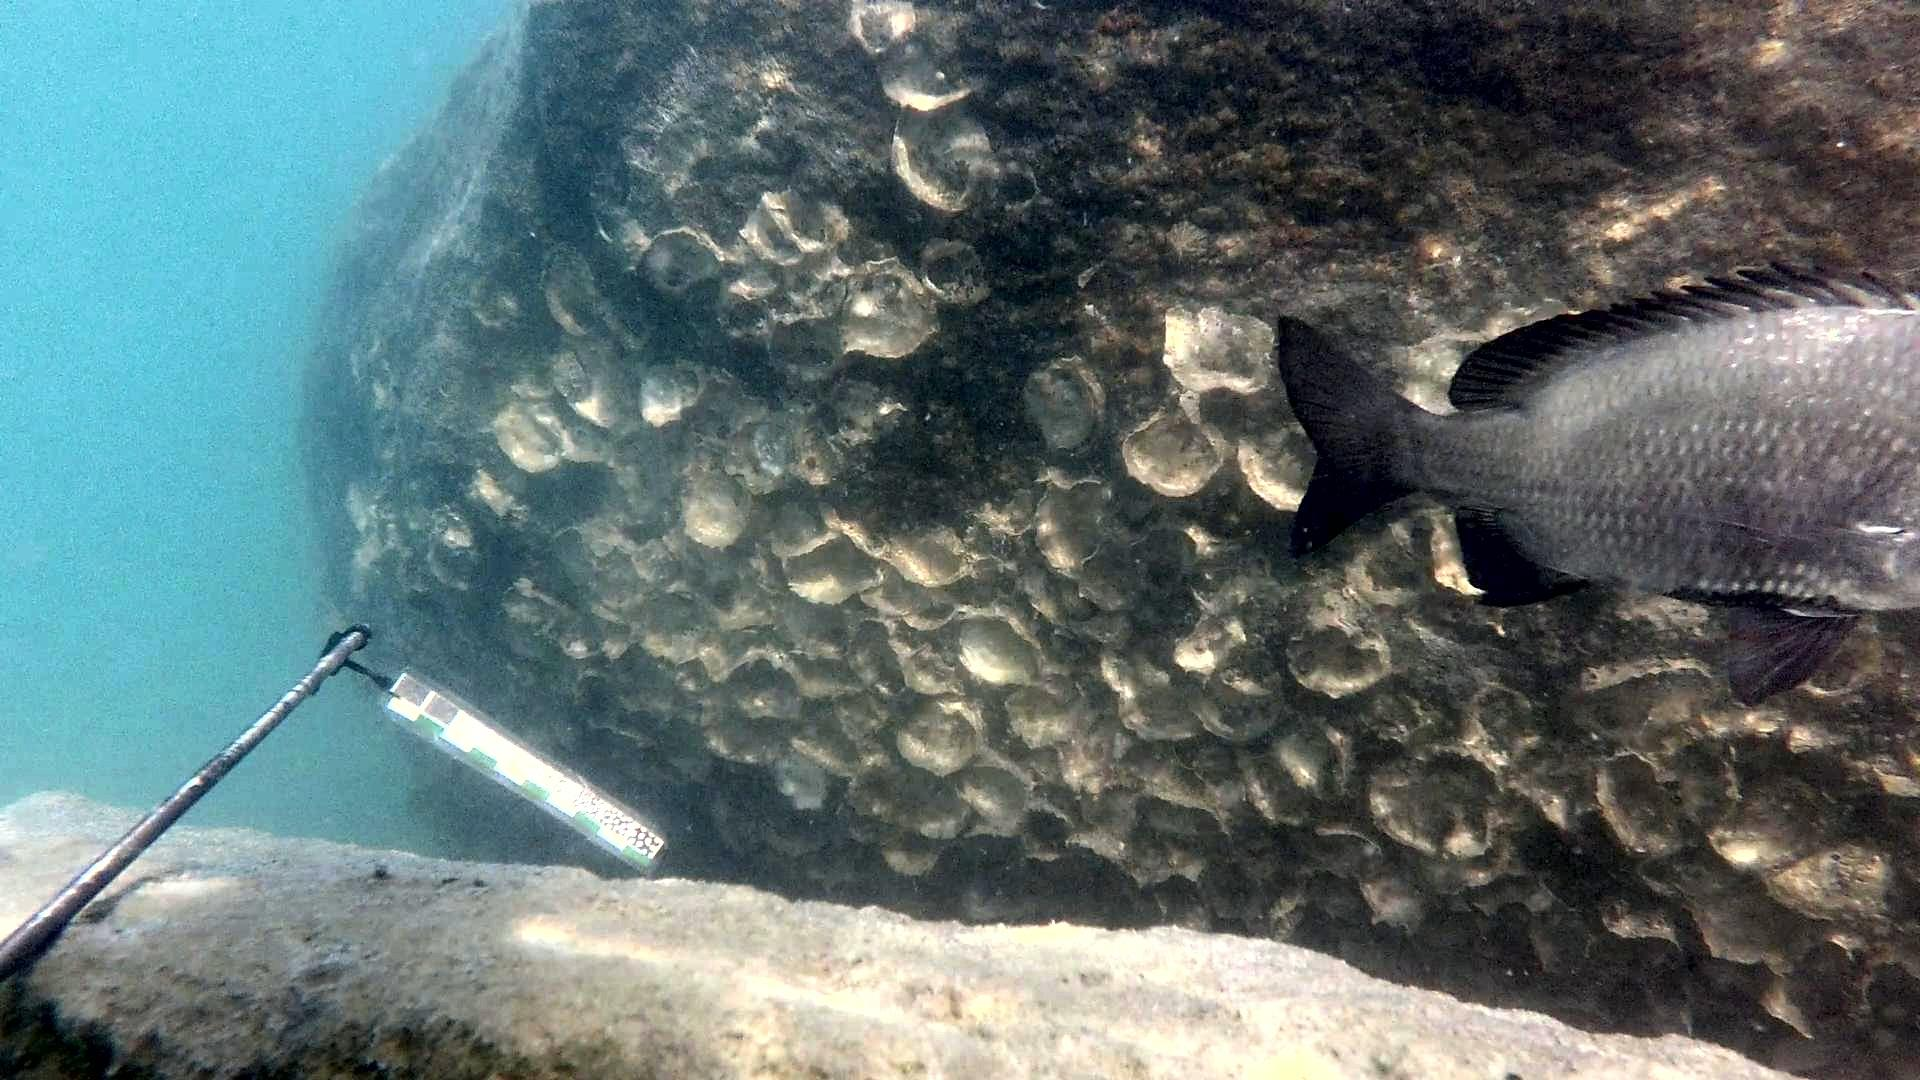acanthopagrus palmaris: (1270, 243, 1916, 723)
